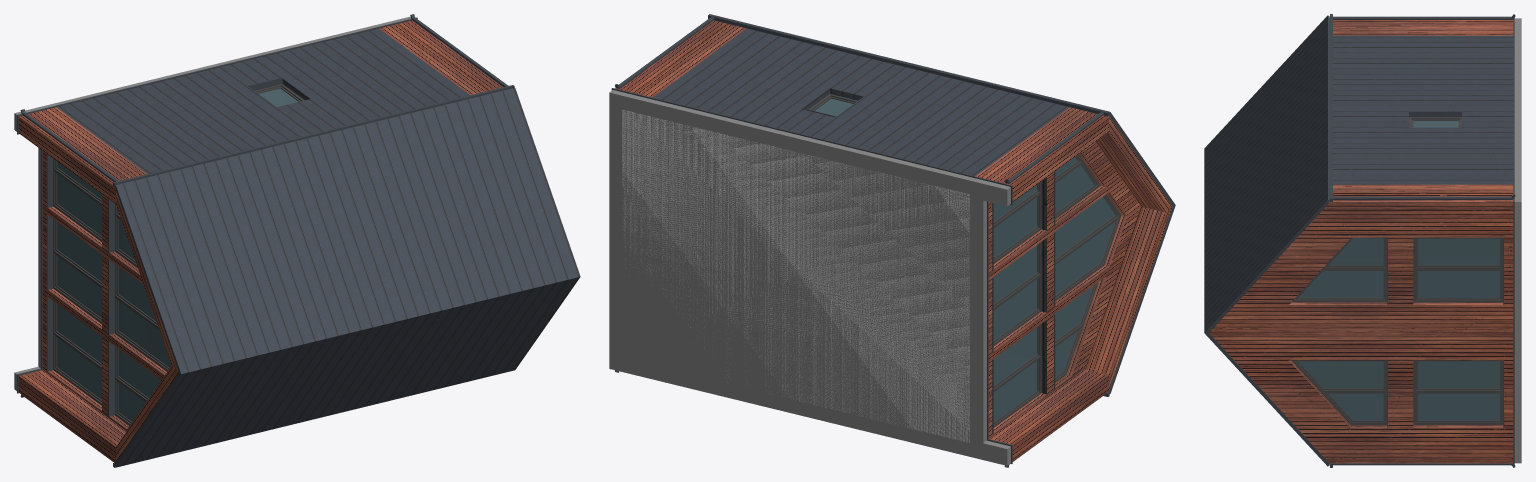
File: DOM 1b_3D_rev11 - Copy.obj
The picture shows the model from 3 angles, left to right: view 1: azimuth 30°, elevation 25°; view 2: azimuth 150°, elevation 25°; view 3: azimuth 270°, elevation 25°; orthographic projection. The views are drawn at different scales.
Visible parts, largest first — view 1: Mesh40 Group41 Model, Mesh38 Group39 Model, Mesh37 Group38 Model, Mesh118 Group126 Group121 Model, Mesh39 Group40 Model, Mesh107 Group116 Group111 Group54 Model, Mesh80 Group84 Group81 Group54 Model, Mesh85 Group90 Group87 Group54 Model, Mesh90 Group96 Group93 Group54 Model, Mesh86 Group91 Group87 Group54 Model, Mesh91 Group97 Group93 Group54 Model, Mesh102 Group110 Group105 Group54 Model (+4 smaller); view 2: Mesh37 Group38 Model, Mesh38 Group39 Model, Mesh36 Group37 Model, Mesh40 Group41 Model, Mesh118 Group126 Group121 Model, Mesh107 Group116 Group111 Group54 Model, Mesh39 Group40 Model, Mesh105 Group114 Group111 Group54 Model, Mesh85 Group90 Group87 Group54 Model, Mesh80 Group84 Group81 Group54 Model, Mesh90 Group96 Group93 Group54 Model, Mesh86 Group91 Group87 Group54 Model (+6 smaller); view 3: Mesh38 Group39 Model, Mesh40 Group41 Model, Mesh37 Group38 Model, Mesh65 Group65 Group62 Group61 Group54 Model, Mesh72 Group74 Group69 Group68 Group54 Model, Mesh67 Group67 Group62 Group61 Group54 Model, Mesh70 Group72 Group69 Group68 Group54 Model, Mesh77 Group80 Group75 Group54 Model, Mesh62 Group60 Group55 Group54 Model, Mesh75 Group78 Group75 Group54 Model, Mesh60 Group58 Group55 Group54 Model, Mesh68 Group70 Group69 Group68 Group54 Model (+16 smaller).
Boxes of the visible parts, box(x1,y1,x2,y2) form: Mesh40 Group41 Model: box(115, 88, 580, 467); Mesh38 Group39 Model: box(18, 20, 503, 462); Mesh37 Group38 Model: box(14, 16, 411, 390); Mesh118 Group126 Group121 Model: box(114, 85, 513, 187); Mesh39 Group40 Model: box(17, 17, 417, 393); Mesh107 Group116 Group111 Group54 Model: box(118, 301, 171, 367); Mesh80 Group84 Group81 Group54 Model: box(57, 174, 101, 235); Mesh85 Group90 Group87 Group54 Model: box(57, 256, 101, 317); Mesh90 Group96 Group93 Group54 Model: box(57, 338, 101, 399); Mesh86 Group91 Group87 Group54 Model: box(57, 222, 101, 281); Mesh91 Group97 Group93 Group54 Model: box(57, 304, 101, 363); Mesh102 Group110 Group105 Group54 Model: box(118, 349, 161, 397); Mesh37 Group38 Model: box(609, 90, 1010, 465); Mesh38 Group39 Model: box(615, 20, 1140, 461); Mesh36 Group37 Model: box(622, 110, 969, 442); Mesh40 Group41 Model: box(1085, 112, 1175, 393); Mesh118 Group126 Group121 Model: box(708, 14, 1108, 116); Mesh107 Group116 Group111 Group54 Model: box(1055, 222, 1114, 294); Mesh39 Group40 Model: box(611, 88, 1012, 463); Mesh105 Group114 Group111 Group54 Model: box(1055, 197, 1115, 258); Mesh85 Group90 Group87 Group54 Model: box(993, 279, 1037, 340); Mesh80 Group84 Group81 Group54 Model: box(993, 197, 1037, 257); Mesh90 Group96 Group93 Group54 Model: box(993, 361, 1037, 421); Mesh86 Group91 Group87 Group54 Model: box(993, 245, 1037, 303); Mesh38 Group39 Model: box(1209, 19, 1513, 463); Mesh40 Group41 Model: box(1204, 15, 1329, 466); Mesh37 Group38 Model: box(1514, 18, 1521, 463); Mesh65 Group65 Group62 Group61 Group54 Model: box(1417, 393, 1499, 420); Mesh72 Group74 Group69 Group68 Group54 Model: box(1417, 238, 1499, 265); Mesh67 Group67 Group62 Group61 Group54 Model: box(1417, 361, 1499, 387); Mesh70 Group72 Group69 Group68 Group54 Model: box(1417, 271, 1499, 297); Mesh77 Group80 Group75 Group54 Model: box(1298, 361, 1383, 387); Mesh62 Group60 Group55 Group54 Model: box(1298, 271, 1383, 297); Mesh75 Group78 Group75 Group54 Model: box(1328, 393, 1383, 420); Mesh60 Group58 Group55 Group54 Model: box(1328, 238, 1383, 265); Mesh68 Group70 Group69 Group68 Group54 Model: box(1413, 237, 1503, 302).
Size of the model in its own units: 1062 by 730 by 771.
Materials: 11 (3 with a texture image).
